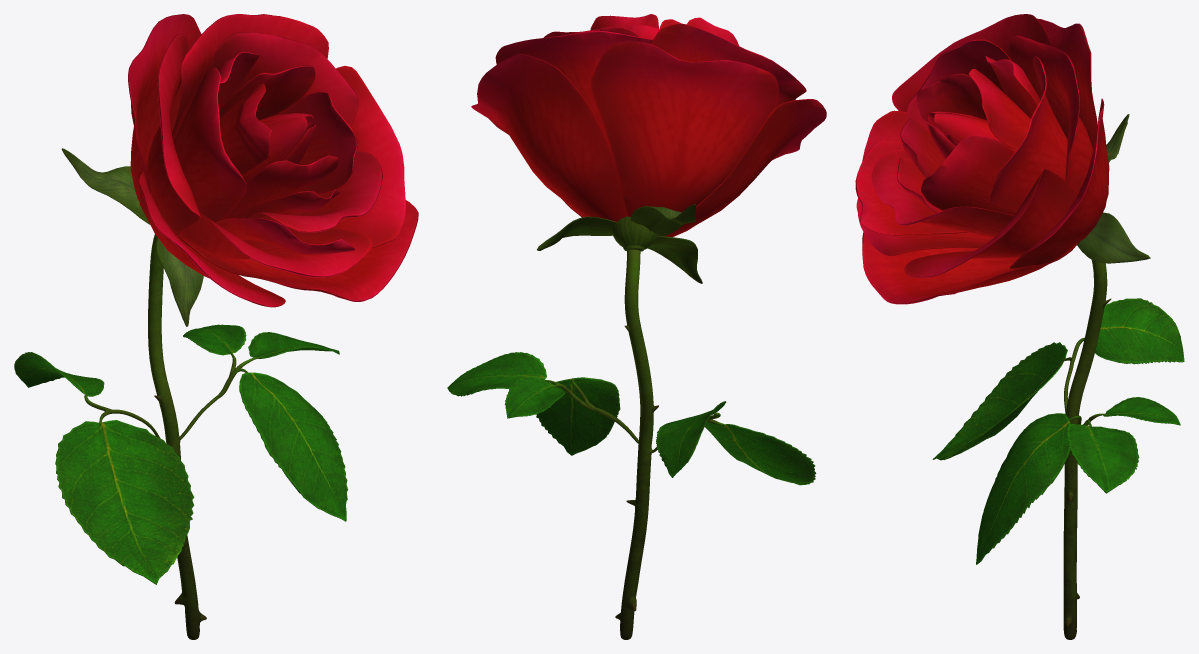
Rendered from rose_new.glb.
3 renders of one model, left to right at view 1: azimuth 30°, elevation 25°; view 2: azimuth 150°, elevation 25°; view 3: azimuth 270°, elevation 25°, orthographic. The views are drawn at different scales.
Visible parts, largest first — view 1: node_id30_1; view 2: node_id30_1; view 3: node_id30_1.
Boxes of the visible parts, x1,y1,x2,y2 form: node_id30_1: (14, 14, 418, 639); node_id30_1: (447, 14, 826, 639); node_id30_1: (855, 14, 1184, 639).
Size of the model in its own units: 0.2082 by 0.3756 by 0.1848.
Materials: 1 (1 with a texture image).
